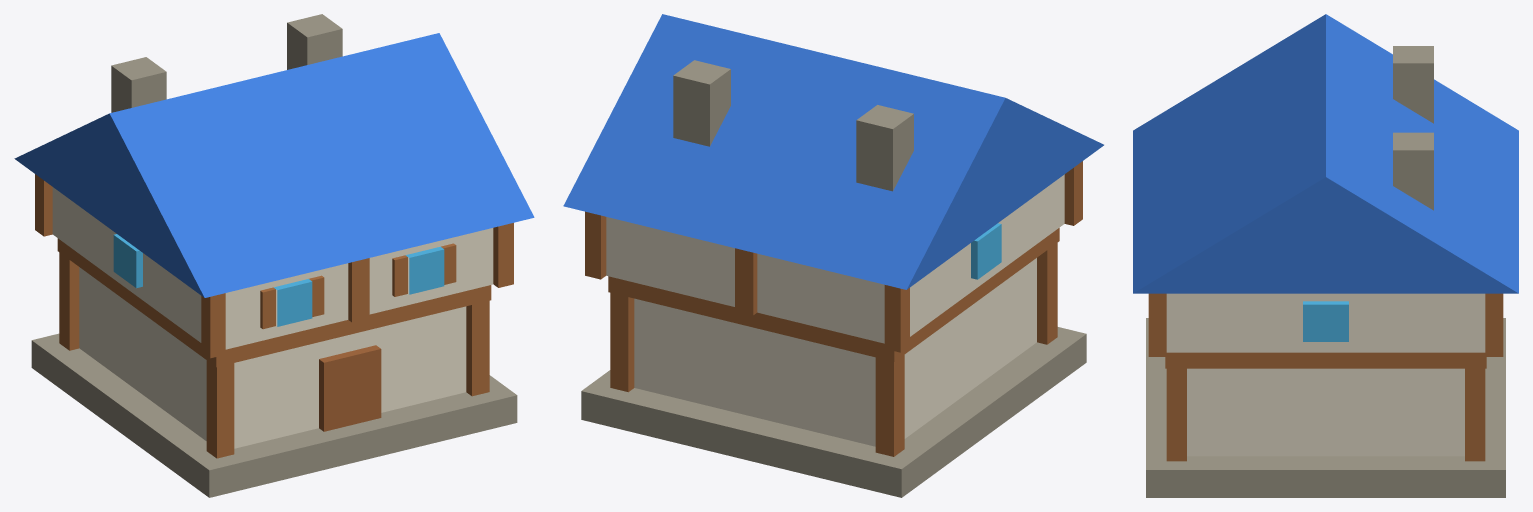
Rendered from house_t2_v2.glb.
The picture shows the model from 3 angles, left to right: view 1: azimuth 30°, elevation 25°; view 2: azimuth 150°, elevation 25°; view 3: azimuth 270°, elevation 25°; orthographic projection. The views are drawn at different scales.
Visible parts, largest first — view 1: house_t2_v2; view 2: house_t2_v2; view 3: house_t2_v2.
Boxes of the visible parts, x1,y1,x2,y2 form: house_t2_v2: [14, 14, 534, 497]; house_t2_v2: [563, 14, 1103, 497]; house_t2_v2: [1133, 14, 1518, 497].
Bounding box in the file's own units: 0.75 × 0.7 × 0.75.
Materials: 1 (1 with a texture image).
